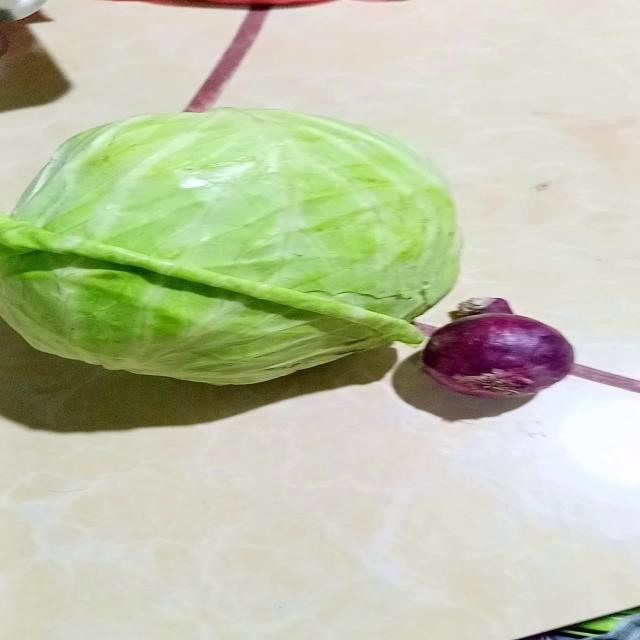cabbage: (0, 108, 465, 389)
onion: (422, 300, 576, 400)
